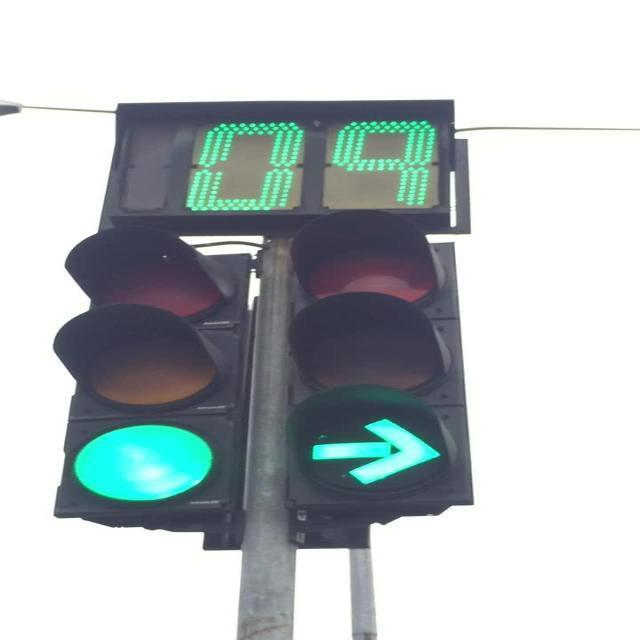green_light: (51, 228, 248, 518), (287, 210, 475, 506)
